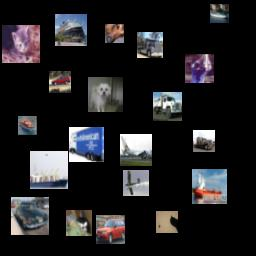airplane: (120, 134, 152, 166), (123, 170, 149, 196)
automobile: (11, 197, 49, 235), (96, 215, 125, 244), (49, 71, 71, 93)
bird: (185, 54, 214, 83)
cat: (2, 25, 40, 63), (66, 210, 92, 236), (156, 211, 178, 233)
dog: (88, 77, 123, 112), (105, 24, 124, 43)
ship: (30, 151, 68, 189), (192, 169, 227, 204), (55, 14, 87, 46), (18, 116, 37, 135), (210, 4, 229, 23)
truck: (69, 127, 104, 162), (153, 92, 182, 121), (137, 32, 163, 58), (193, 130, 215, 152)
